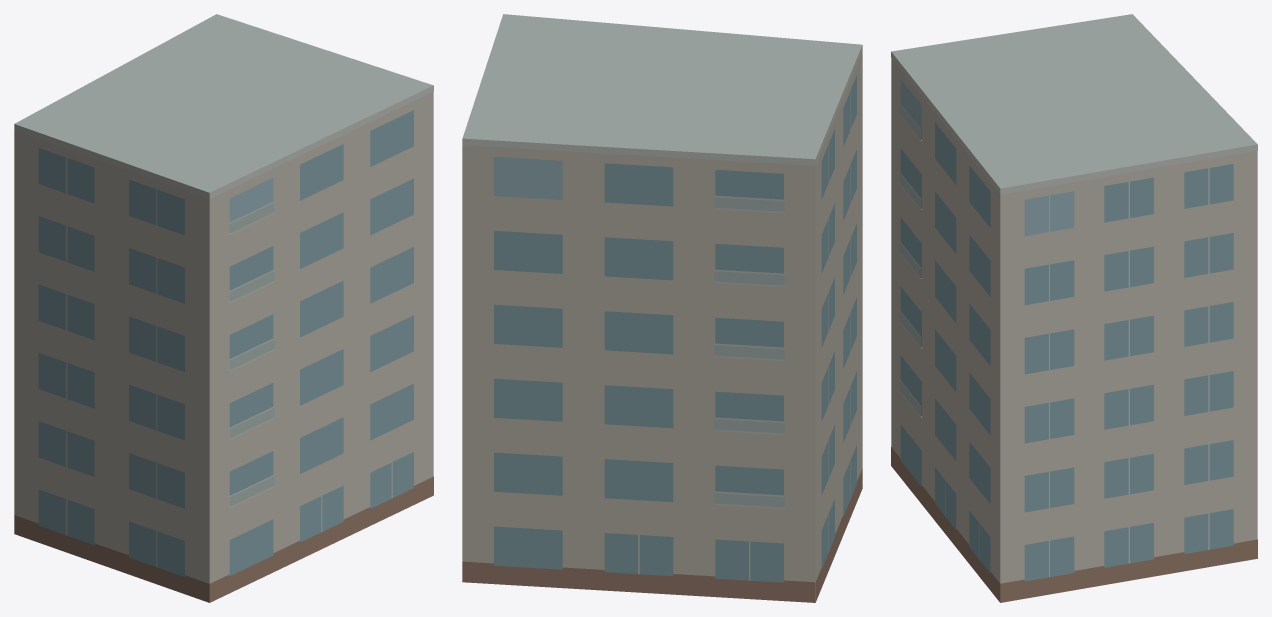
Rendered from survey-upis-32737589.glb.
3 renders of one model, left to right at view 1: azimuth 30°, elevation 25°; view 2: azimuth 150°, elevation 25°; view 3: azimuth 270°, elevation 25°, orthographic. The views are drawn at different scales.
Visible parts, largest first — view 1: survey-upis-32737589.tmp; view 2: survey-upis-32737589.tmp; view 3: survey-upis-32737589.tmp.
Part boxes in pixels (<box>): survey-upis-32737589.tmp: <box>14,14,433,602</box>; survey-upis-32737589.tmp: <box>462,14,862,602</box>; survey-upis-32737589.tmp: <box>891,14,1257,602</box>.
Bounding box in the file's own units: 14.65 × 16.2 × 13.
